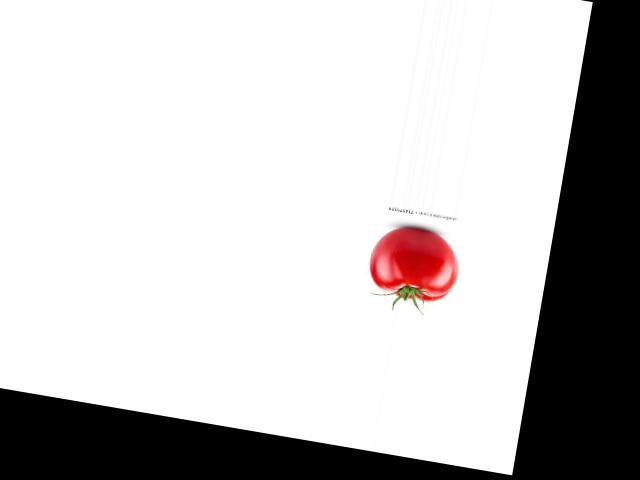tomato: (364, 222, 464, 305)
